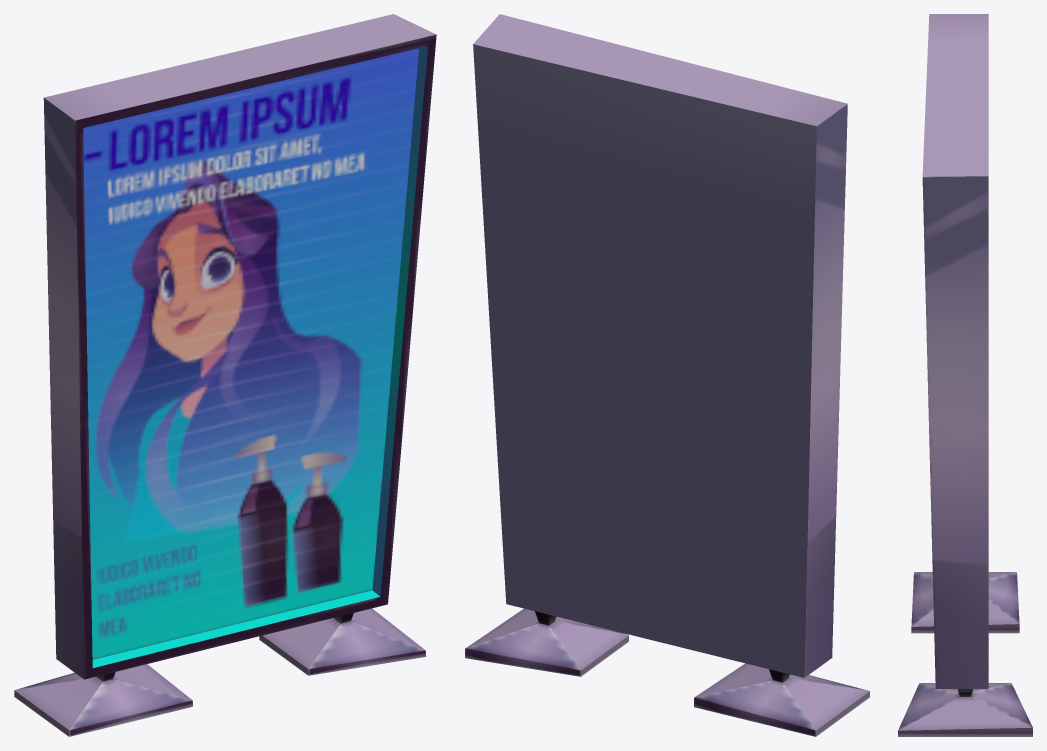
Rendered from Cartel_publicidad.fbx.
3 renders of one model, left to right at view 1: azimuth 30°, elevation 25°; view 2: azimuth 150°, elevation 25°; view 3: azimuth 270°, elevation 25°, orthographic. The views are drawn at different scales.
Visible parts, largest first — view 1: Cube.044; view 2: Cube.044; view 3: Cube.044.
Boxes of the visible parts, box(x1,y1,x2,y2) form: Cube.044: box(14, 14, 436, 736); Cube.044: box(465, 14, 869, 736); Cube.044: box(898, 14, 1032, 736).
Bounding box in the file's own units: 73.37 × 115 × 24.51.
